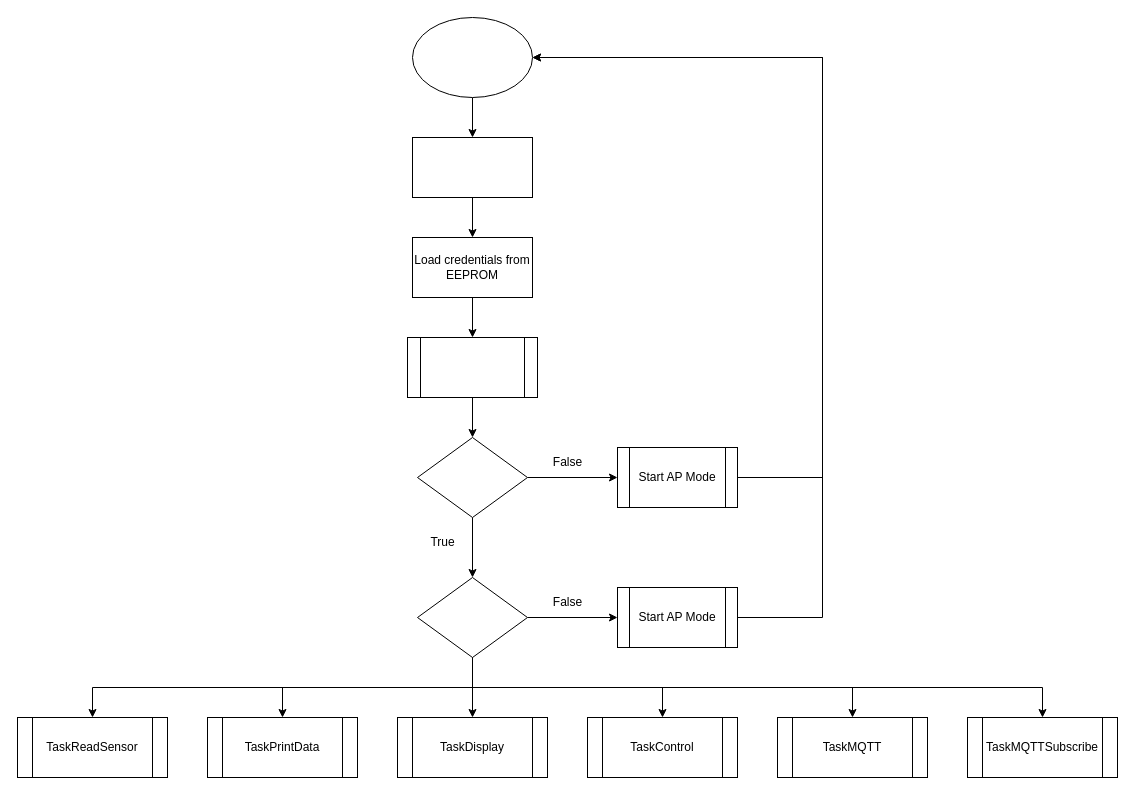
This 1135x795 diagram has some shape labels left out. The shapes that lost their labels are listed below. From the top down, each one's centre as x and y in pixels, then its label:
At (472,57): "Start".
At (472,167): "Initialize Serial, DHT, OLED, I/O, mutex".
At (472,367): "TaskResetTimeout".
At (472,477): "Connect WiFi".
At (472,617): "Connect MQTT".
